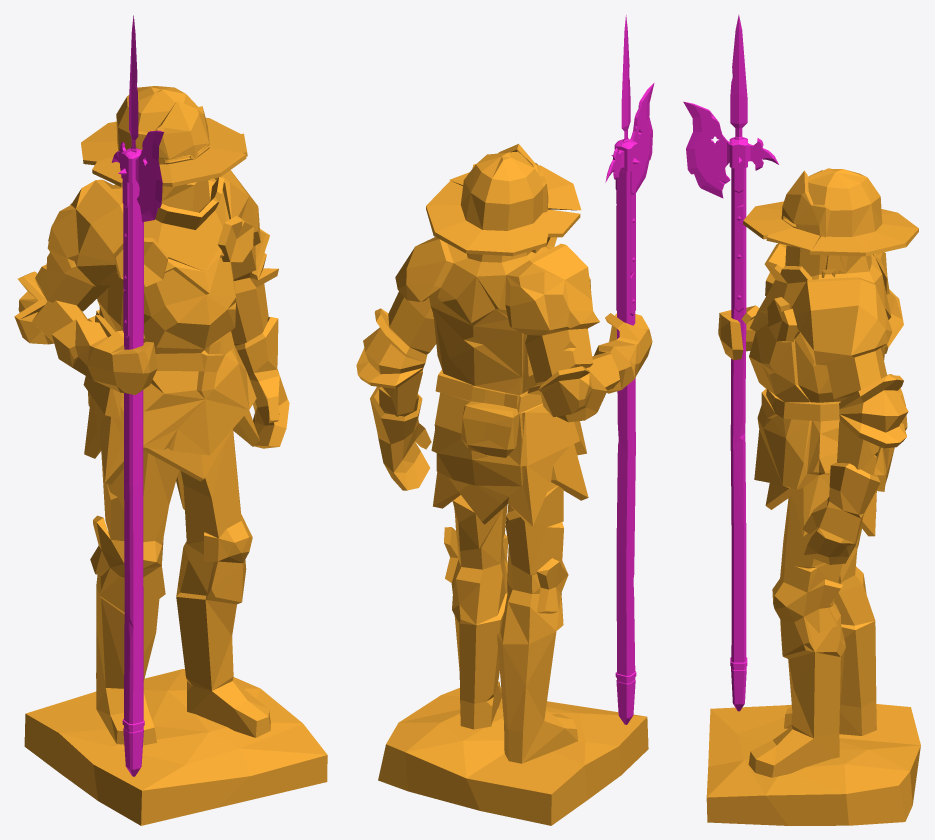
File: SM_Statue_Guard_Crown_Standing_Fantasy.fbx
3 renders of one model, left to right at view 1: azimuth 30°, elevation 25°; view 2: azimuth 150°, elevation 25°; view 3: azimuth 270°, elevation 25°, orthographic. The views are drawn at different scales.
Parts seen in each view (by area): view 1: SM_Statue_Guard_Crown_Standing_Fantasy; view 2: SM_Statue_Guard_Crown_Standing_Fantasy; view 3: SM_Statue_Guard_Crown_Standing_Fantasy.
Part boxes in pixels (<box>): SM_Statue_Guard_Crown_Standing_Fantasy: <box>14,15,327,825</box>; SM_Statue_Guard_Crown_Standing_Fantasy: <box>356,15,654,825</box>; SM_Statue_Guard_Crown_Standing_Fantasy: <box>683,14,920,825</box>.
Size of the model in its own units: 0.7983 by 2.33 by 0.6891.
